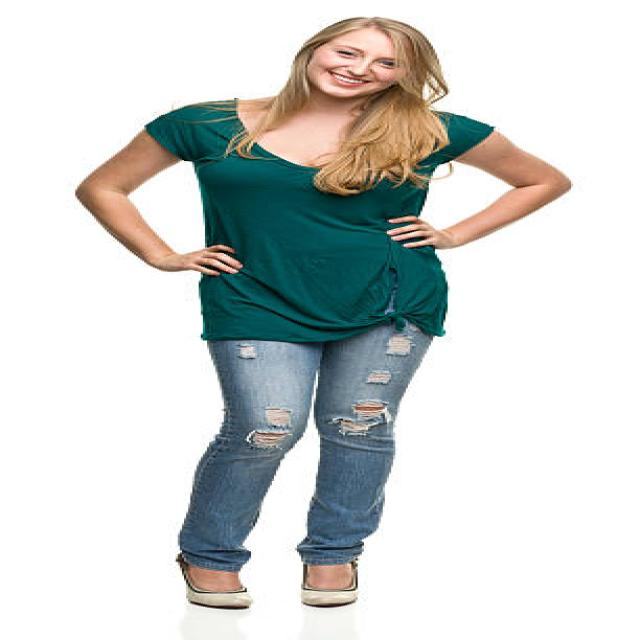Edited images: (70, 14, 590, 619)
